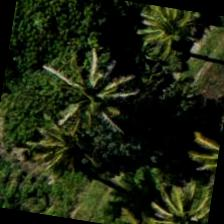Kelapa_Sawit: (7, 88, 110, 190), (134, 170, 215, 223)
